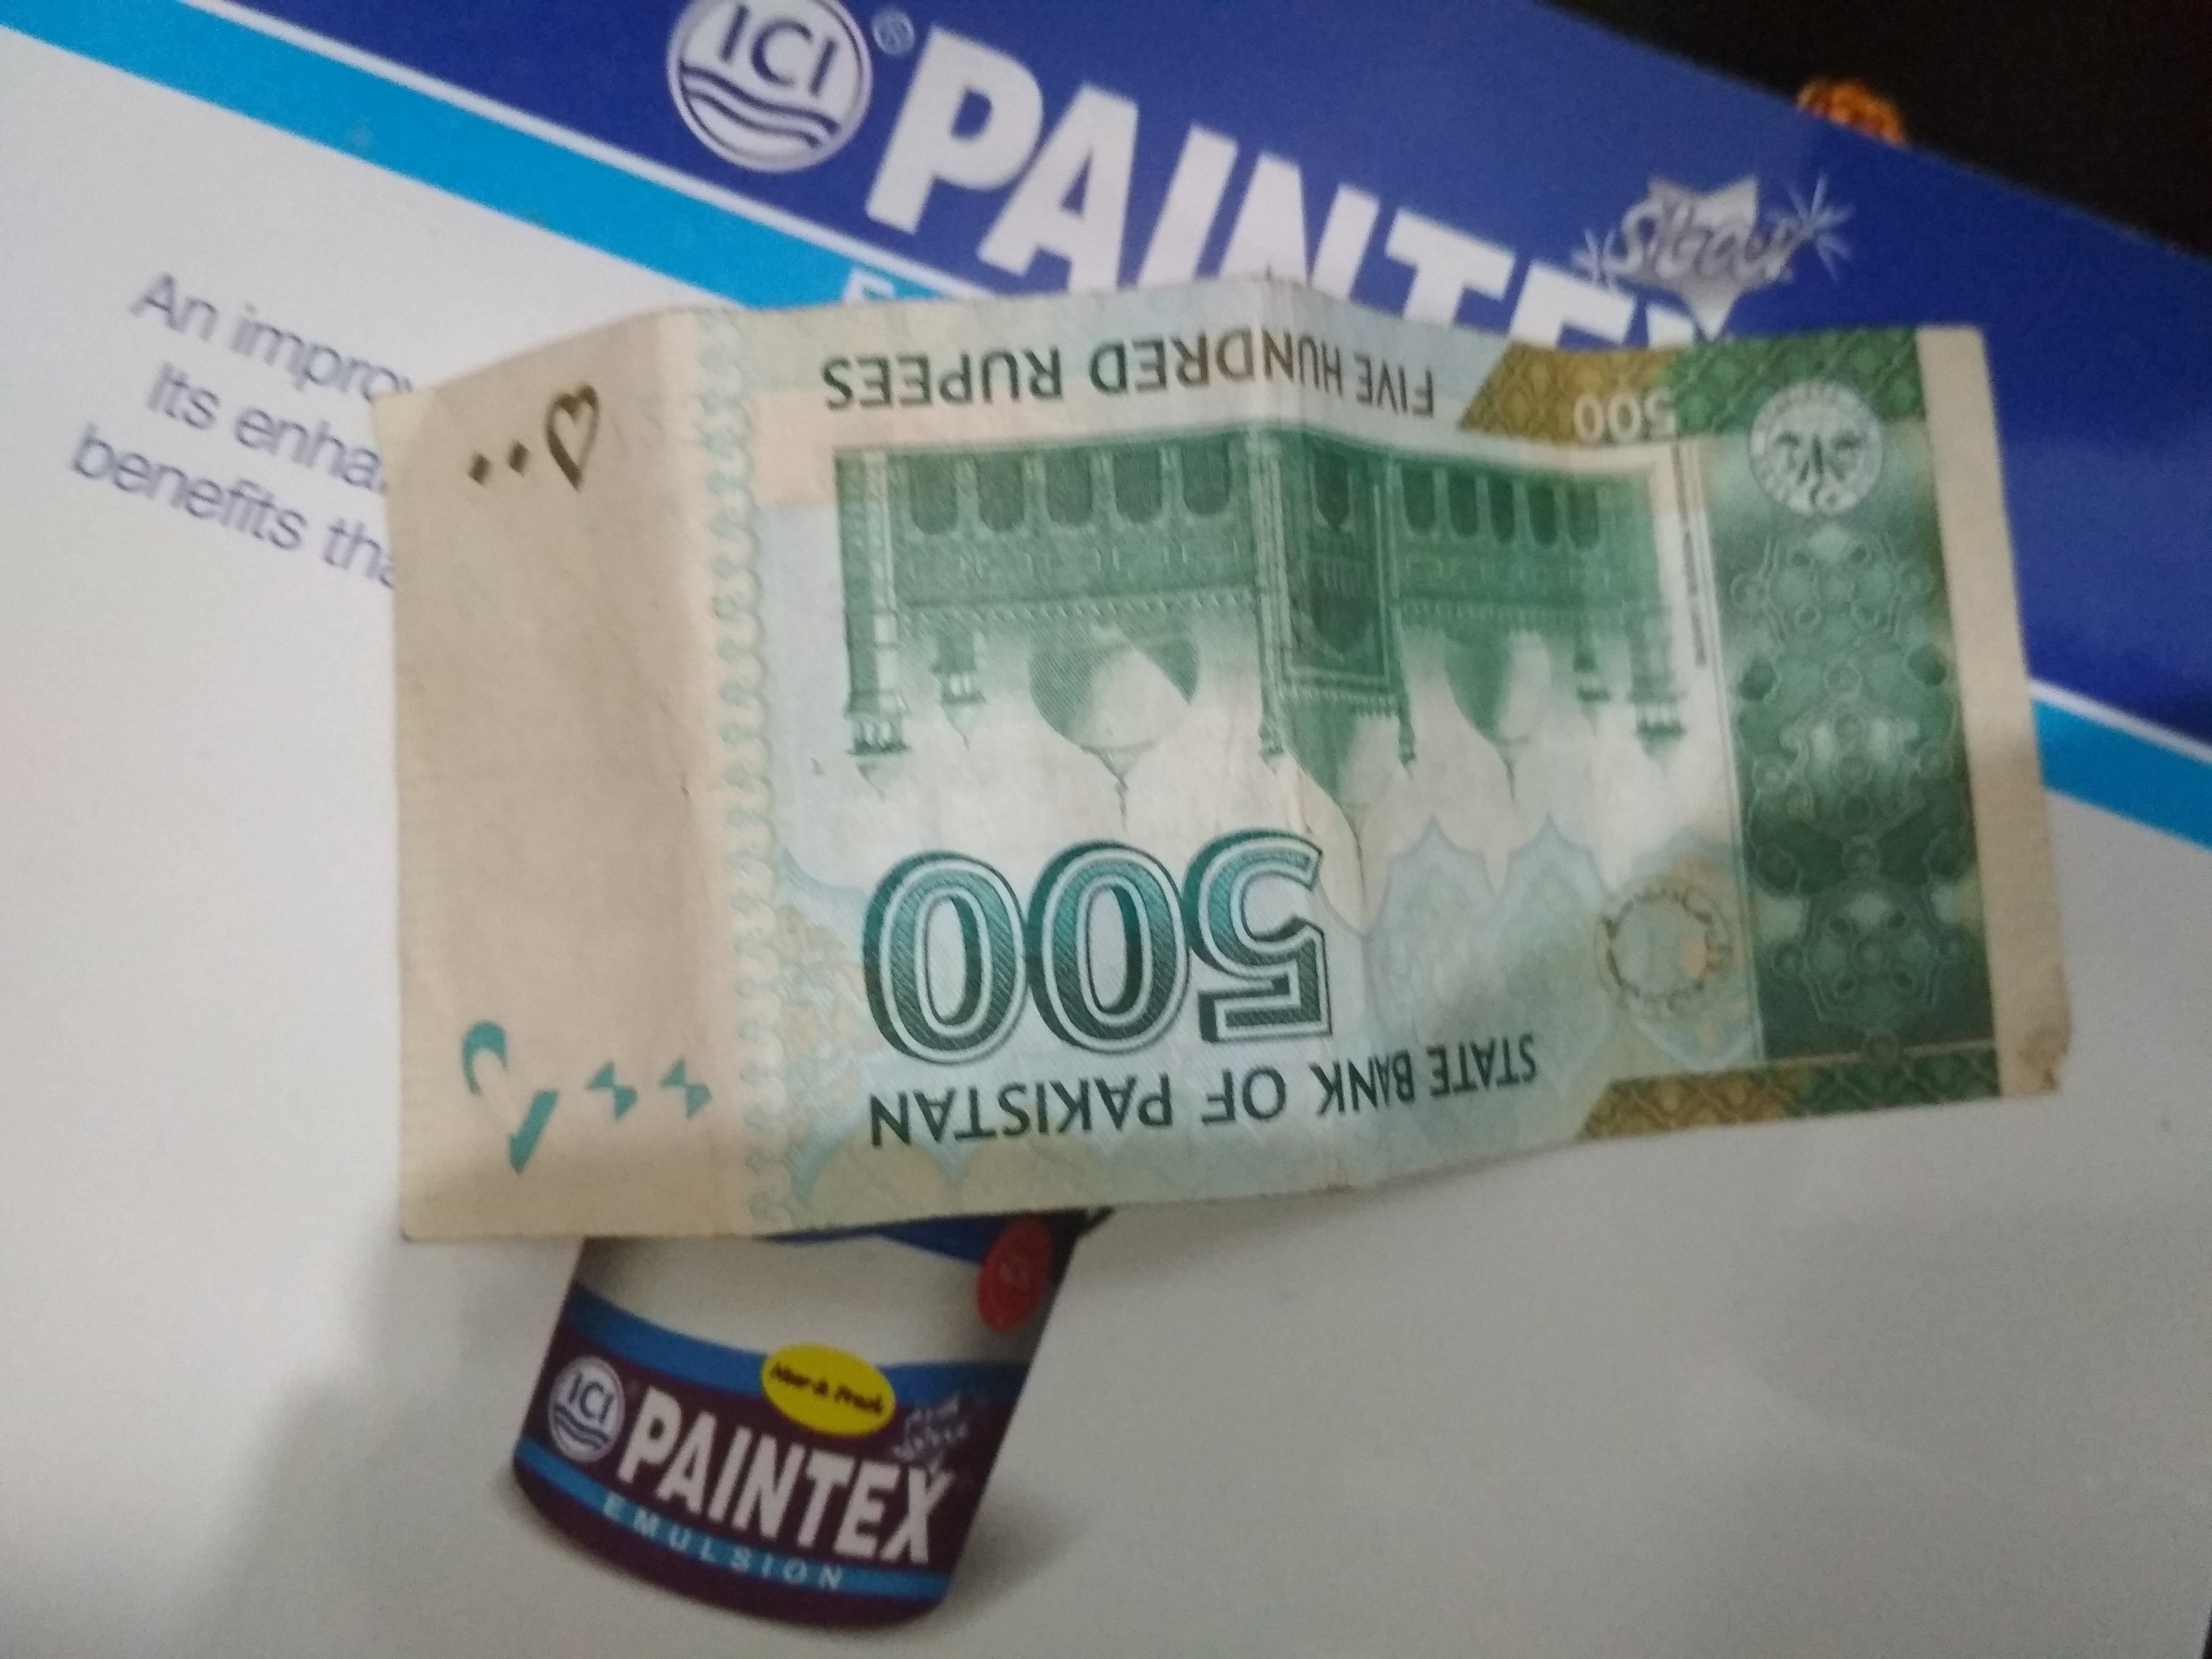500 rupee: (388, 279, 2083, 1277)
